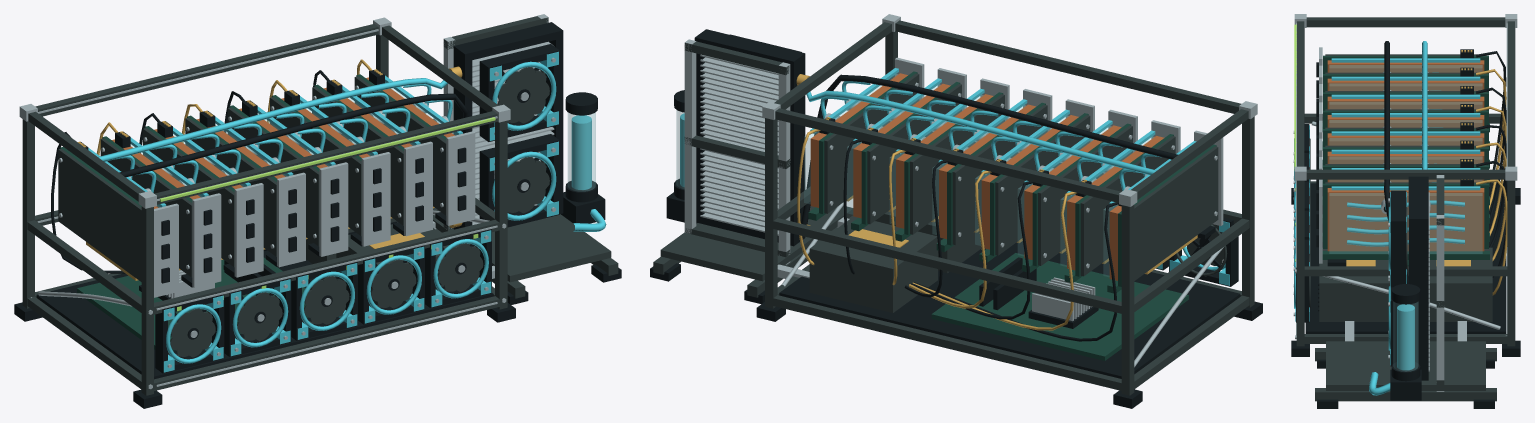
Rendered from rig-8-none-liquid.glb.
The picture shows the model from 3 angles, left to right: view 1: azimuth 30°, elevation 25°; view 2: azimuth 150°, elevation 25°; view 3: azimuth 270°, elevation 25°; orthographic projection. The views are drawn at different scales.
Parts seen in each view (by area): view 1: Anodized graphite (×9), Rubber and ABS (×17), Brushed aluminium (×10), gpu-liquid (×8), Coolant blue (×9), Circuit board, cooling-liquid, rig-8-none-liquid; view 2: Anodized graphite (×2), gpu-liquid (×8), Rubber and ABS (×4), Brushed aluminium (×10), Circuit board, Coolant blue, slot-cable-1, slot-cable-2, slot-cable-3, slot-cable-4, cooling-liquid, slot-cable-5; view 3: Anodized graphite (×2), gpu-liquid (×8), Rubber and ABS (×7), Coolant blue (×11), Brushed aluminium (×3), cooling-liquid, Circuit board, slot-cable-8, Contacts, slot-cable-1, slot-cable-3, slot-cable-2 (+5 smaller).
Part boxes in pixels (box(x1,y1,x2,y2)): Anodized graphite (×9): box(22, 16, 618, 395); Rubber and ABS (×17): box(14, 22, 621, 408); Brushed aluminium (×10): box(19, 14, 554, 389); gpu-liquid (×8): box(58, 74, 456, 281); Coolant blue (×9): box(98, 51, 606, 372); Circuit board: box(77, 257, 308, 350); cooling-liquid: box(568, 112, 595, 191); rig-8-none-liquid: box(160, 117, 495, 201); Anodized graphite (×2): box(653, 20, 1254, 395); gpu-liquid (×8): box(804, 71, 1218, 286); Rubber and ABS (×4): box(650, 29, 1262, 408); Brushed aluminium (×10): box(684, 14, 1257, 367); Circuit board: box(808, 207, 1188, 360); Coolant blue: box(806, 81, 1161, 190); slot-cable-1: box(913, 202, 1118, 341); slot-cable-2: box(912, 191, 1076, 330); slot-cable-3: box(911, 181, 1034, 319); slot-cable-4: box(909, 170, 991, 308); cooling-liquid: box(676, 110, 684, 188); slot-cable-5: box(904, 160, 948, 297); Anodized graphite (×2): box(1296, 17, 1515, 401); gpu-liquid (×8): box(1323, 54, 1488, 253); Rubber and ABS (×7): box(1291, 41, 1520, 408); Coolant blue (×11): box(1331, 41, 1480, 395); Brushed aluminium (×3): box(1294, 14, 1517, 391); cooling-liquid: box(1393, 302, 1418, 371); Circuit board: box(1322, 123, 1489, 266); slot-cable-8: box(1476, 179, 1507, 295); Contacts: box(1346, 260, 1470, 266); slot-cable-1: box(1476, 51, 1506, 195); slot-cable-3: box(1476, 87, 1506, 224); slot-cable-2: box(1476, 69, 1506, 210).
Bounding box in the file's own units: 8.43 × 3.32 × 3.66.
